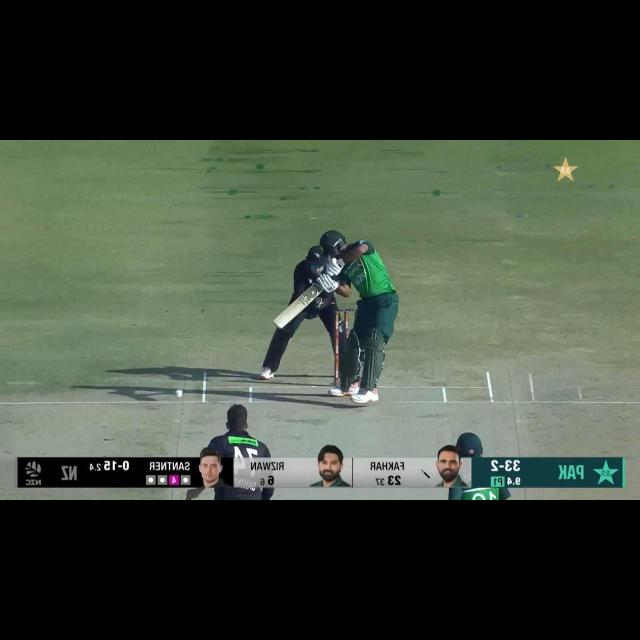bat: (273, 280, 331, 329)
toe: (270, 315, 291, 333)
